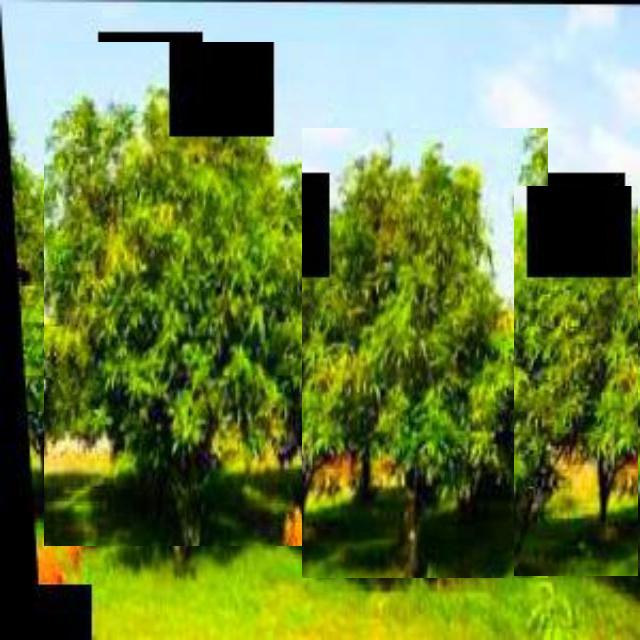tree: (44, 42, 328, 546), (302, 128, 548, 578), (514, 186, 638, 576)
